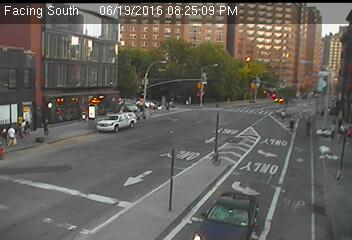neg: (228, 124, 252, 156), (146, 122, 168, 150), (247, 66, 266, 92), (188, 142, 203, 162), (99, 133, 113, 151), (186, 47, 199, 63)
pos: (2, 122, 20, 146), (36, 117, 52, 137), (17, 117, 31, 135), (77, 109, 90, 127), (288, 116, 300, 132), (277, 108, 289, 124), (186, 93, 195, 105)
